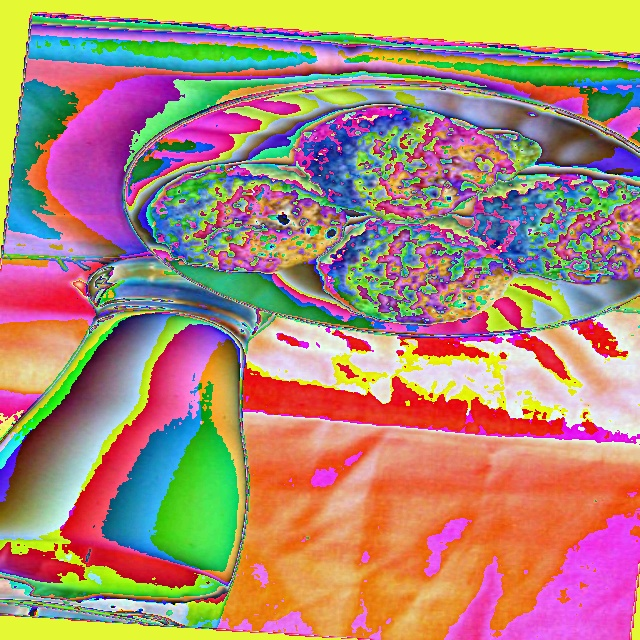background: (151, 103, 639, 322), (0, 293, 249, 597)
